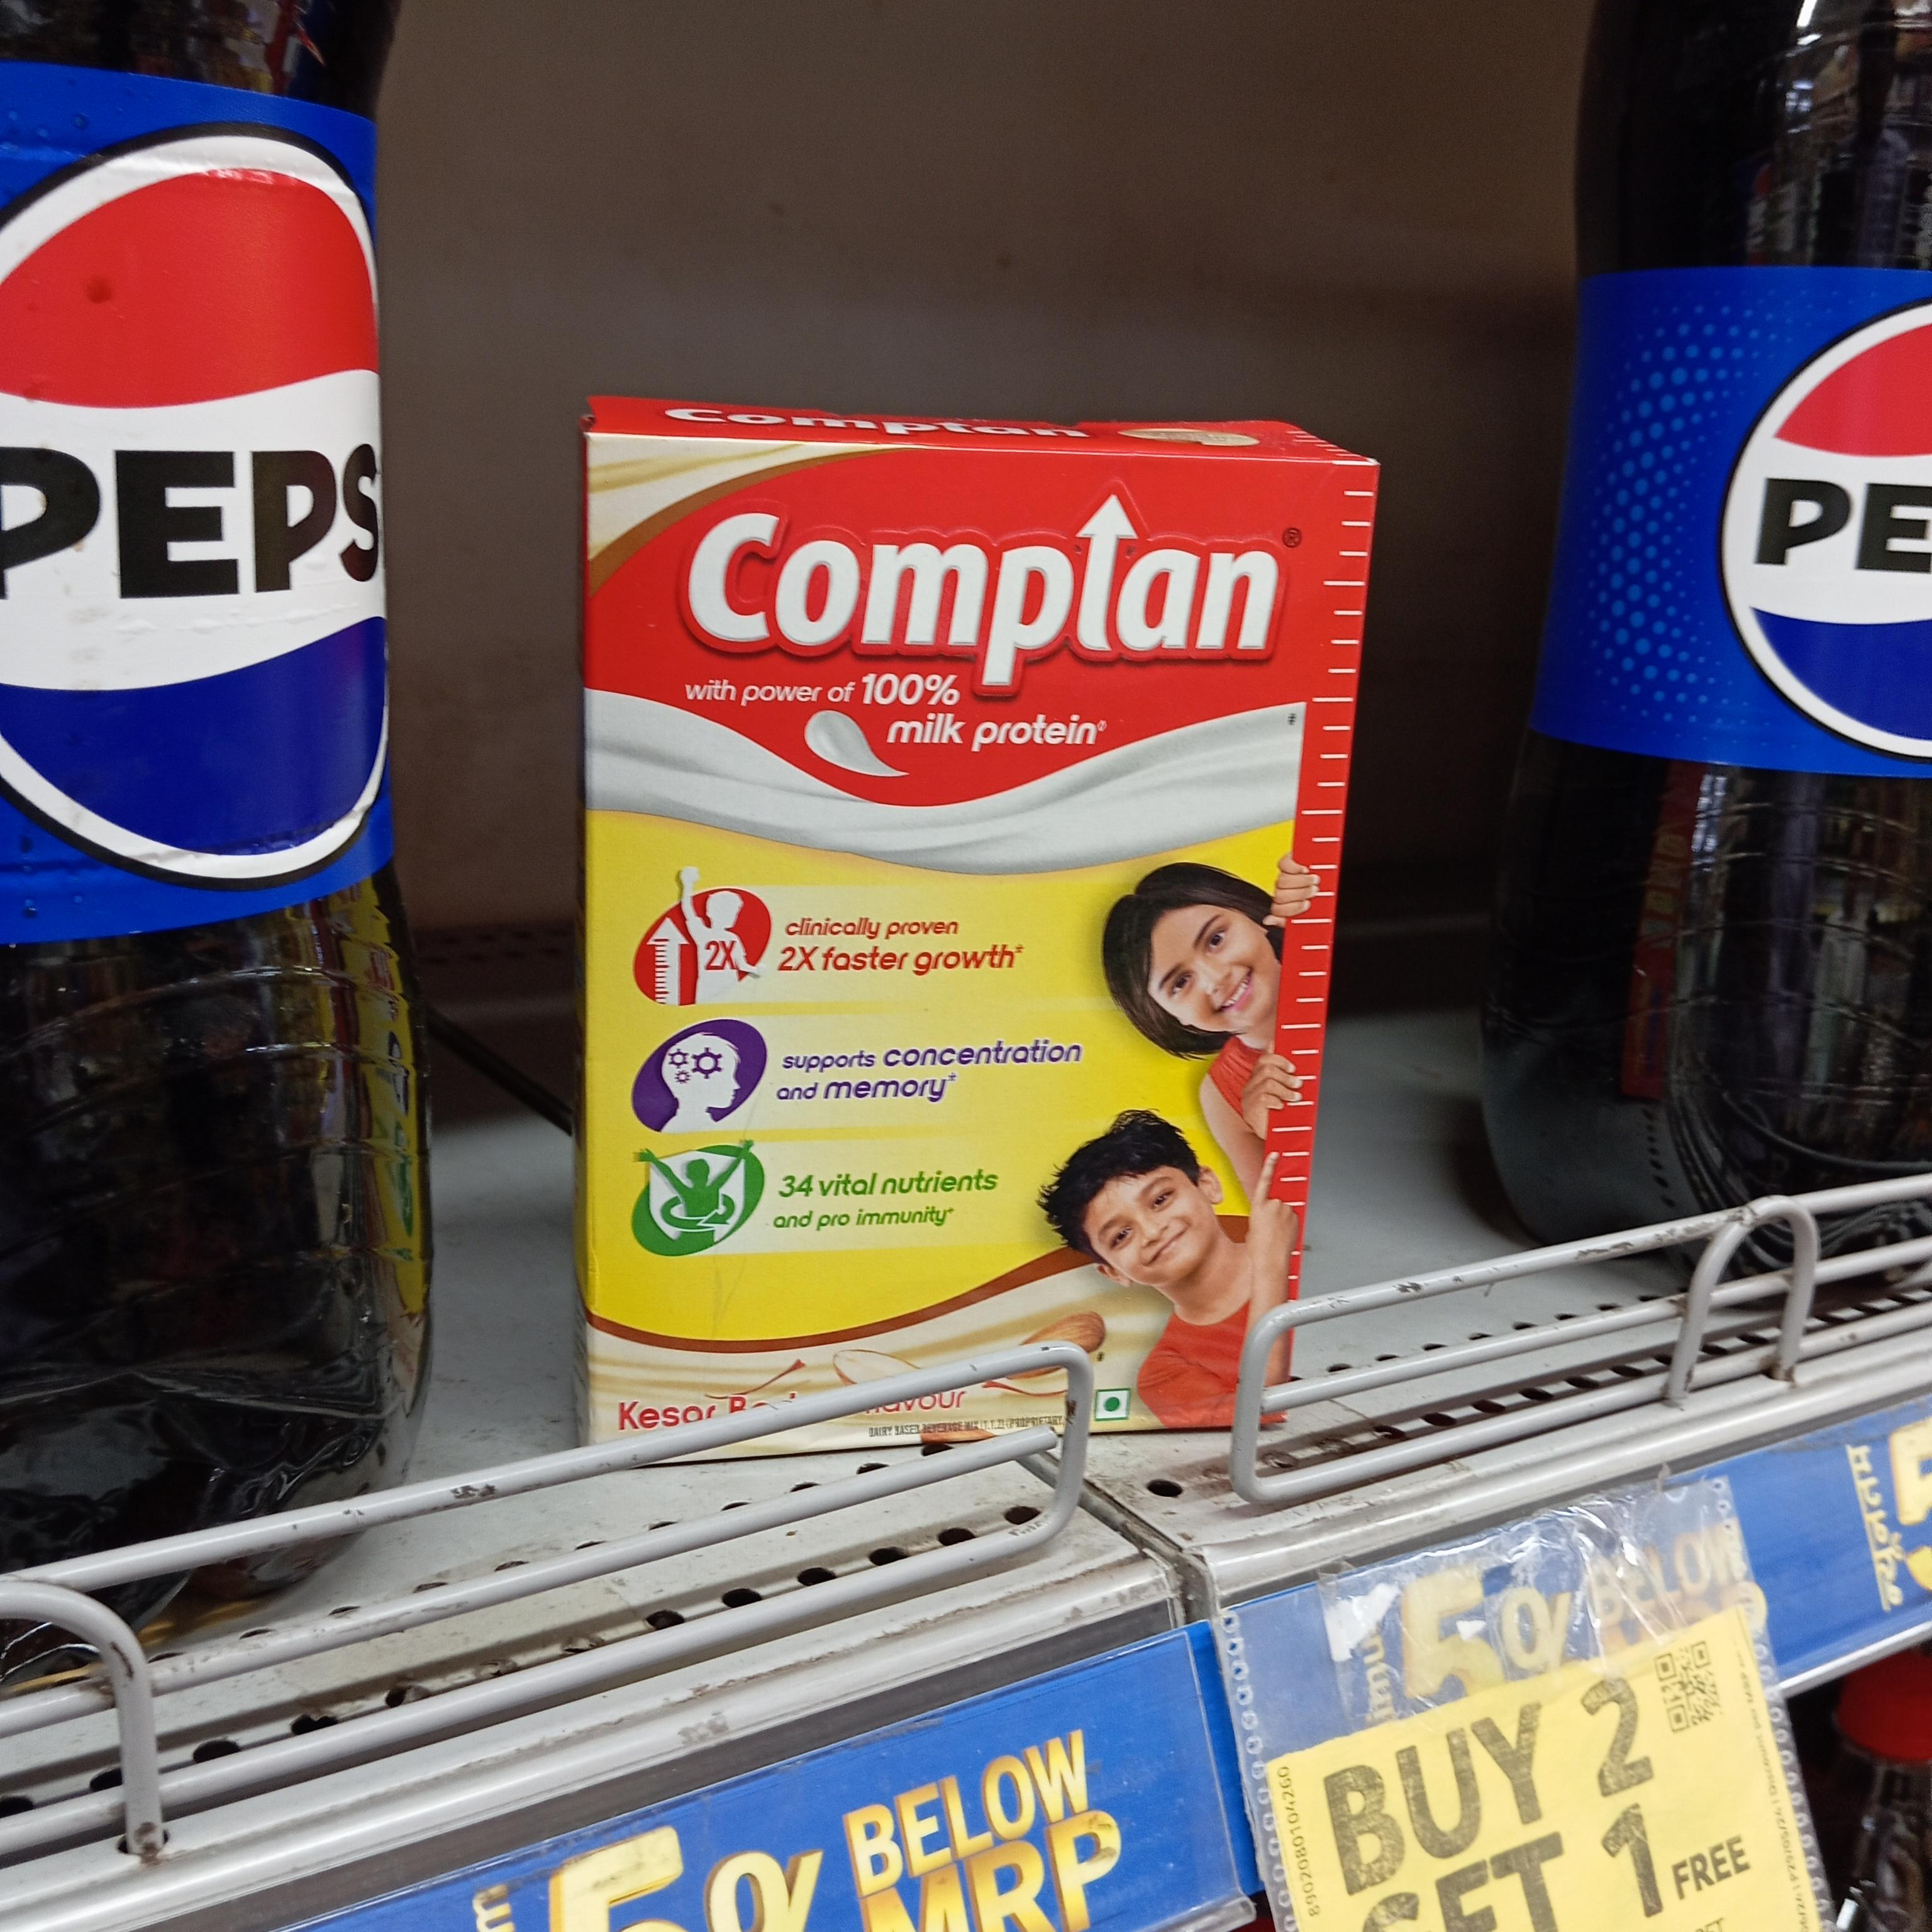COMPLAN_CHOCOLATE_200_GMS_JAR: (573, 432, 1304, 1470)
